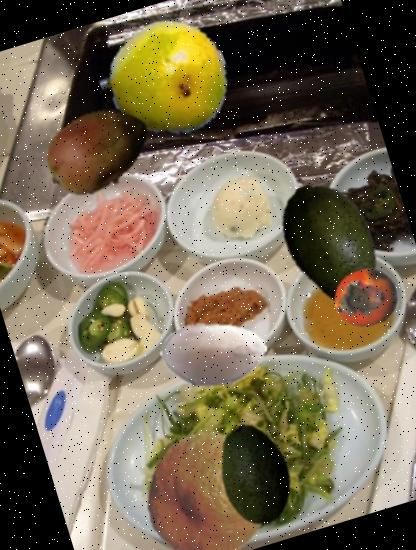Avocado: (252, 166, 408, 323), (191, 408, 322, 540)
Hazelnut: (147, 287, 281, 421)
Kaki: (326, 258, 406, 338)
Mandarine: (128, 415, 288, 550)
Maracuja: (88, 1, 244, 158)
Papaya: (29, 80, 169, 220)
